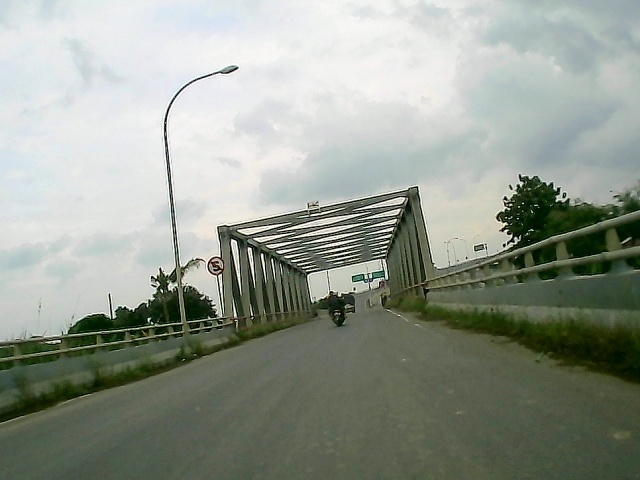Dilarang berhenti: (206, 256, 226, 279)
